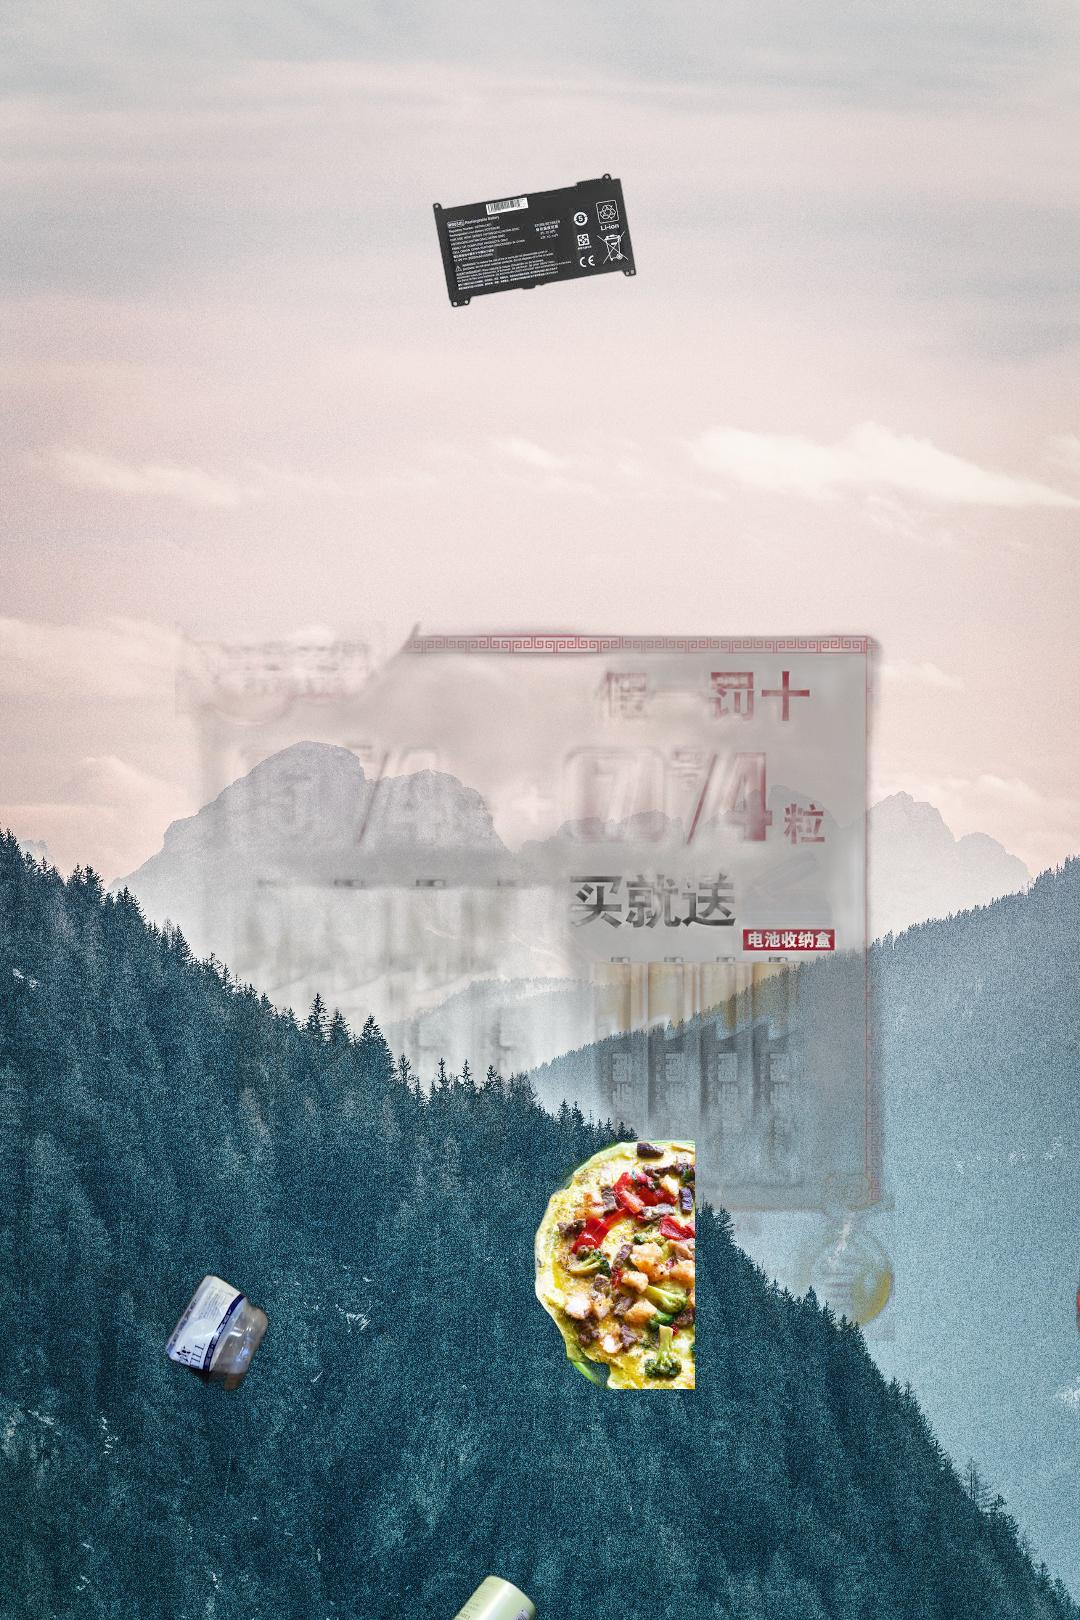battery: (175, 621, 896, 1342), (430, 171, 639, 310)
biological: (521, 1140, 695, 1389)
clothes: (1073, 1103, 1080, 1581)
metal-cans: (425, 1568, 542, 1620)
plastic-bottles: (86, 1252, 271, 1396)
